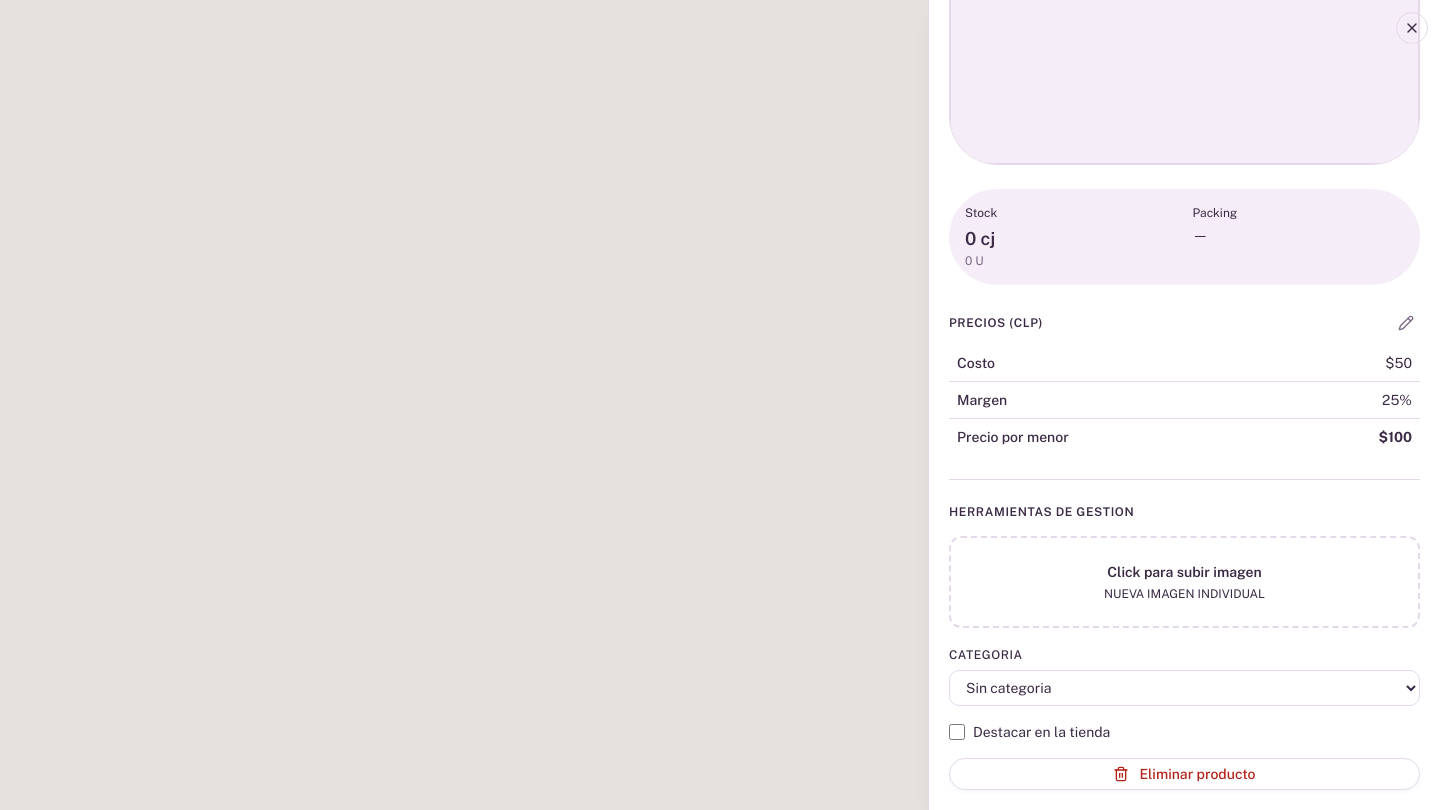
ProductDrawer — eliminar producto › al hacer clic abre confirmacion que pide escribir el codigo
(page scrolled)
Click the button with test id "eliminar-producto-btn" at (1184, 774), box x1=949 y1=758 x2=1420 y2=790
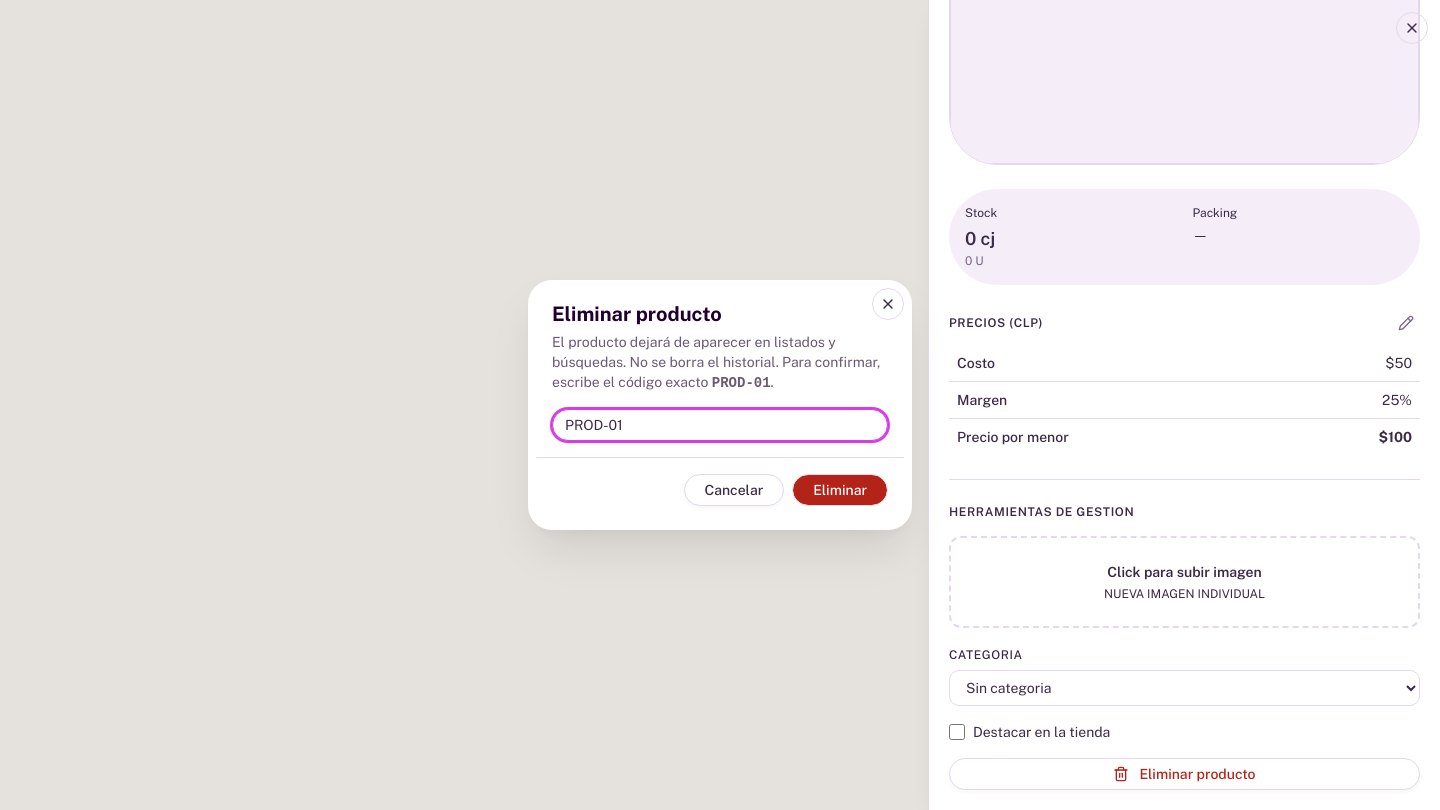
Expected: the field with test id "confirmar-eliminar-input" is shown, x1=552 y1=409 x2=888 y2=441
